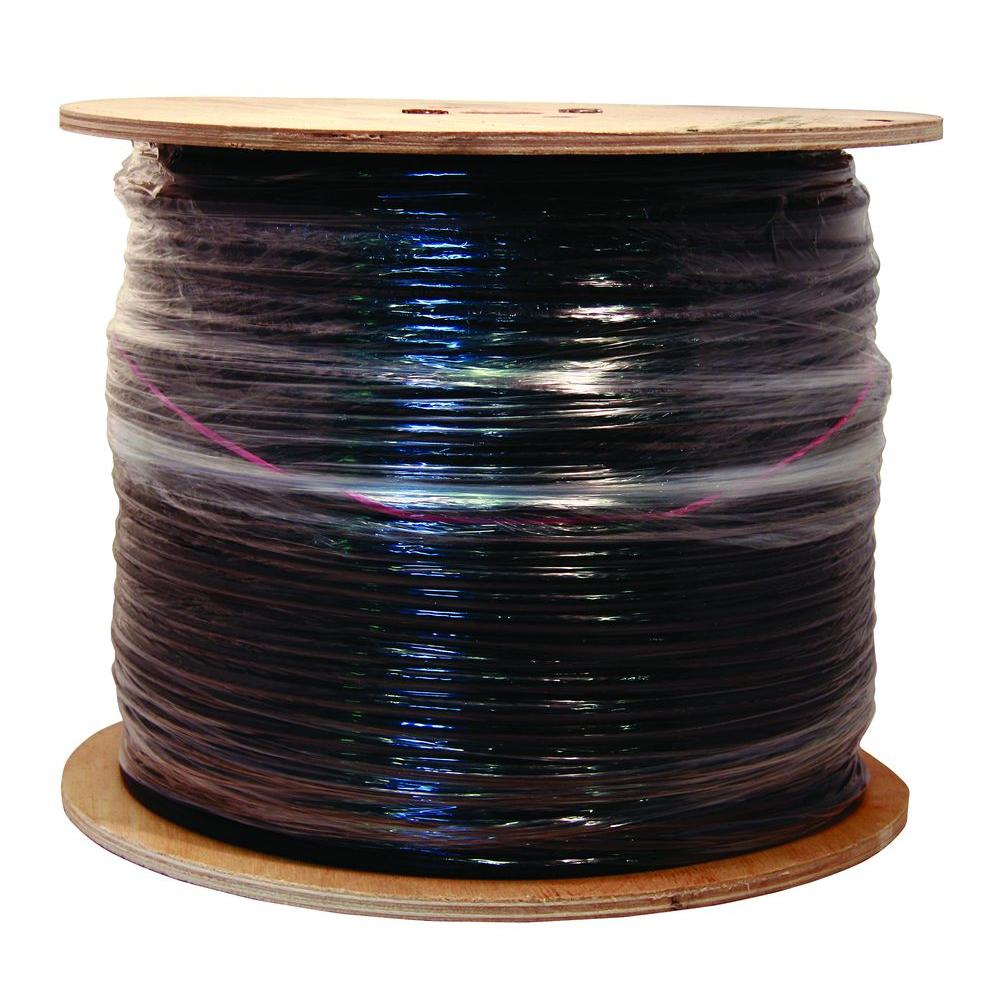Nonrec_Tangler: (8, 49, 886, 927)
